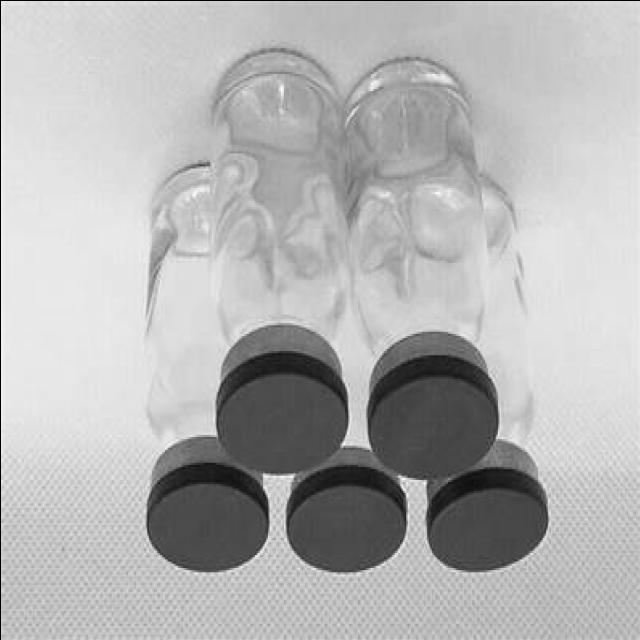vial: (190, 344, 352, 478), (361, 376, 498, 480), (404, 490, 542, 579), (278, 476, 398, 576), (139, 476, 265, 570)
